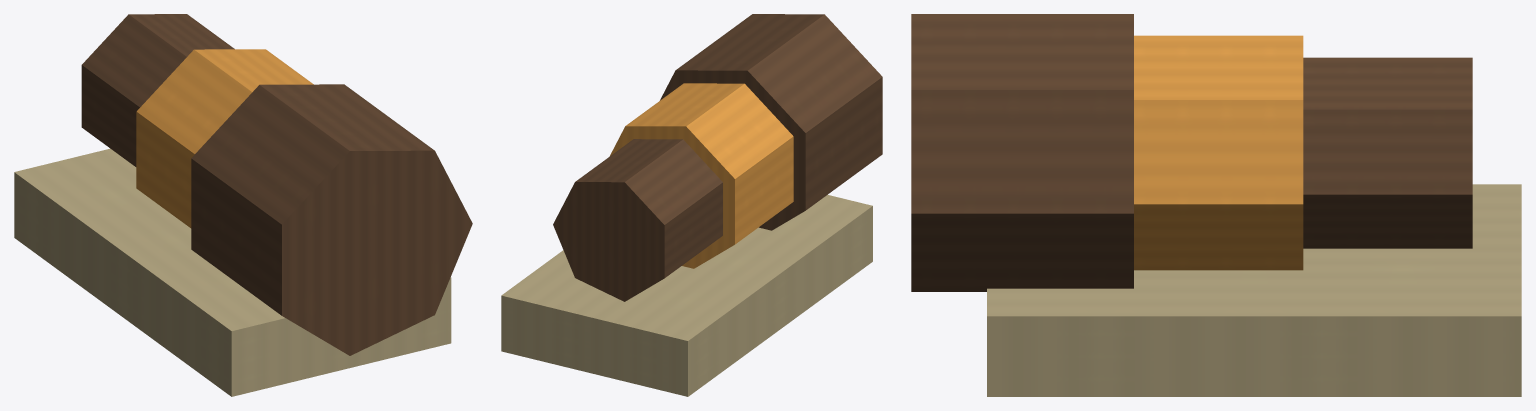
The model's file is atlas100-s013-a05.lod1.glb.
The picture shows the model from 3 angles, left to right: view 1: azimuth 30°, elevation 25°; view 2: azimuth 150°, elevation 25°; view 3: azimuth 270°, elevation 25°; orthographic projection. The views are drawn at different scales.
Parts seen in each view (by area): view 1: atlas100-s013-a05:part-002, atlas100-s013-a05:part-004, atlas100-s013-a05:part-001, atlas100-s013-a05:part-000; view 2: atlas100-s013-a05:part-004, atlas100-s013-a05:part-002, atlas100-s013-a05:part-000, atlas100-s013-a05:part-001; view 3: atlas100-s013-a05:part-004, atlas100-s013-a05:part-002, atlas100-s013-a05:part-001, atlas100-s013-a05:part-000.
Boxes of the visible parts, box(x1,y1,x2,y2) form: atlas100-s013-a05:part-002: box(191, 84, 472, 355); atlas100-s013-a05:part-004: box(14, 148, 451, 396); atlas100-s013-a05:part-001: box(136, 49, 313, 228); atlas100-s013-a05:part-000: box(81, 14, 234, 166); atlas100-s013-a05:part-004: box(501, 194, 872, 396); atlas100-s013-a05:part-002: box(660, 14, 882, 230); atlas100-s013-a05:part-000: box(553, 139, 722, 301); atlas100-s013-a05:part-001: box(609, 83, 793, 268); atlas100-s013-a05:part-004: box(987, 184, 1521, 396); atlas100-s013-a05:part-002: box(911, 14, 1133, 291); atlas100-s013-a05:part-001: box(1134, 35, 1303, 270); atlas100-s013-a05:part-000: box(1303, 57, 1472, 248).
Bounding box in the file's own units: 0.3822 × 0.4106 × 0.748.
Materials: 3 (3 with a texture image).
